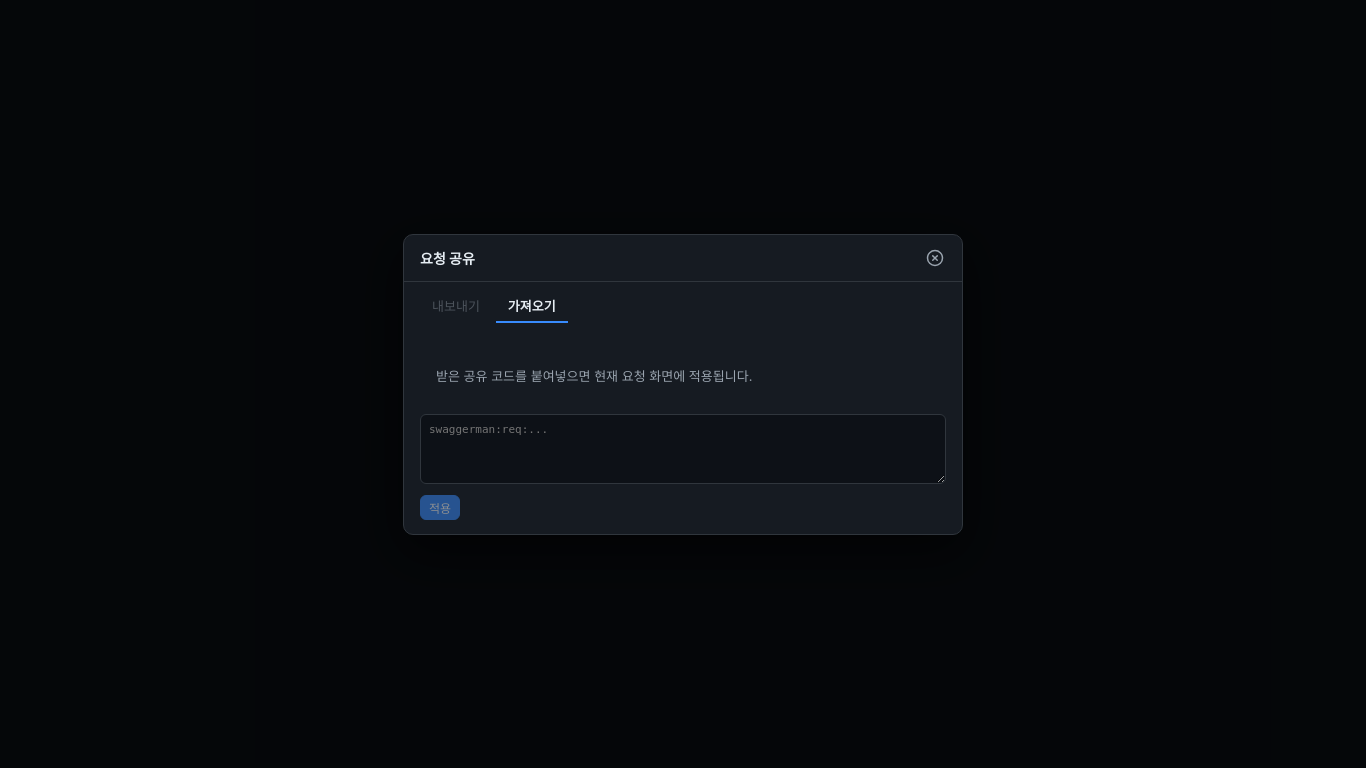
ShareModal 가져오기 › 깨진 코드는 에러를 표시하고 적용 버튼이 비활성이다
Type "swaggerman:req:!!!깨짐" into the text box named "공유 코드 입력" at (683, 448), box [420,414,946,484]
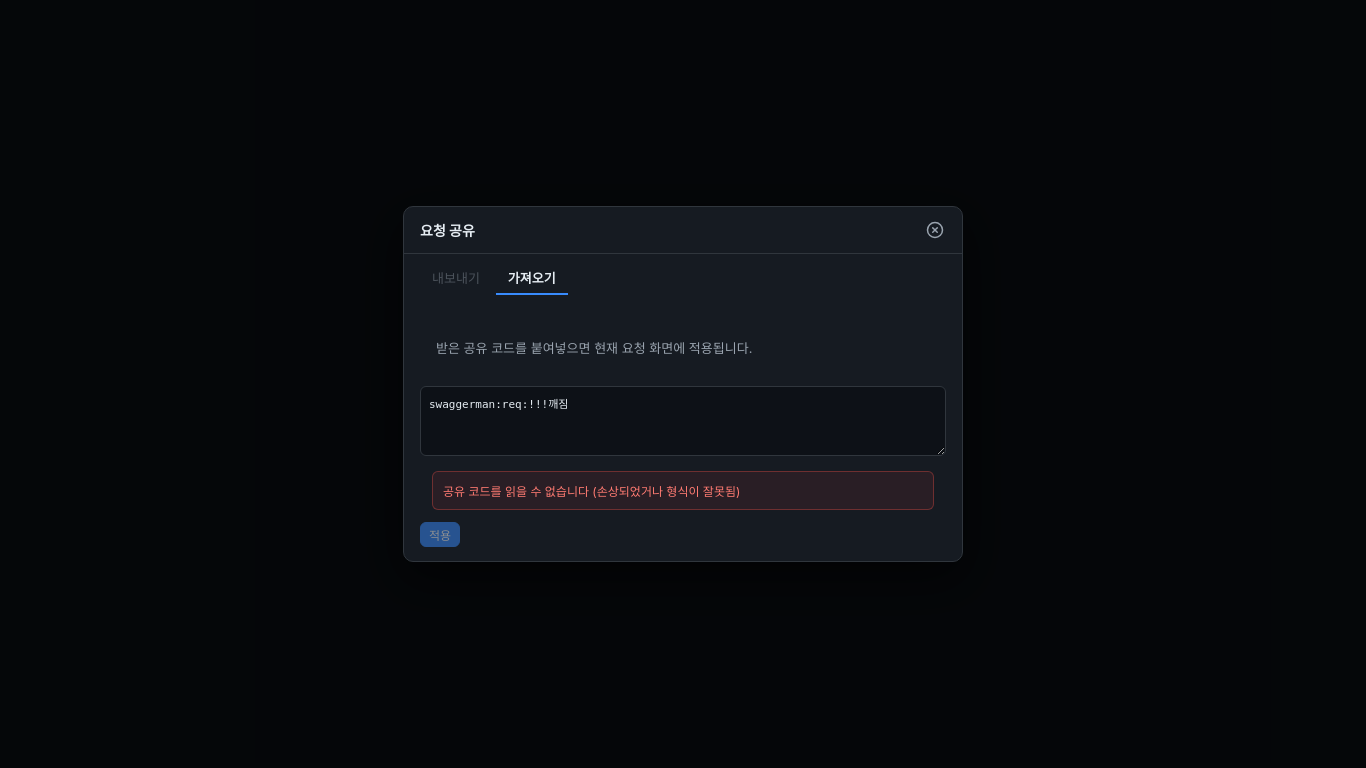
Expected: the button "적용" is disabled, [420,522,460,547]
Result: the text "공유 코드를 읽을 수 없습니다 (손상되었거나 형식이 잘못됨)" is shown at [432,471,934,510]
